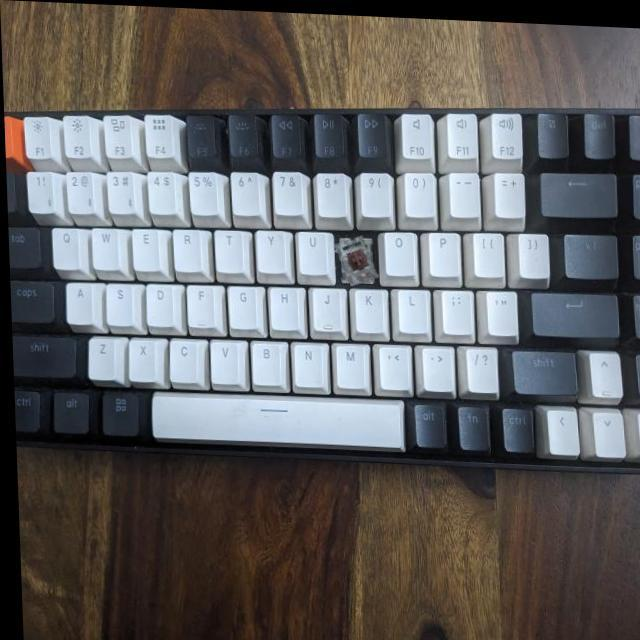key-switch: (335, 234, 374, 282)
